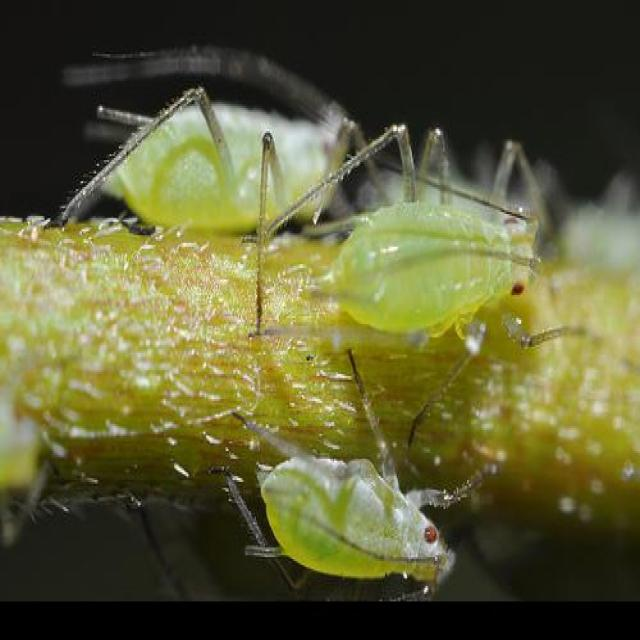aphid: (62, 29, 354, 291), (290, 152, 582, 374), (204, 390, 490, 606)
